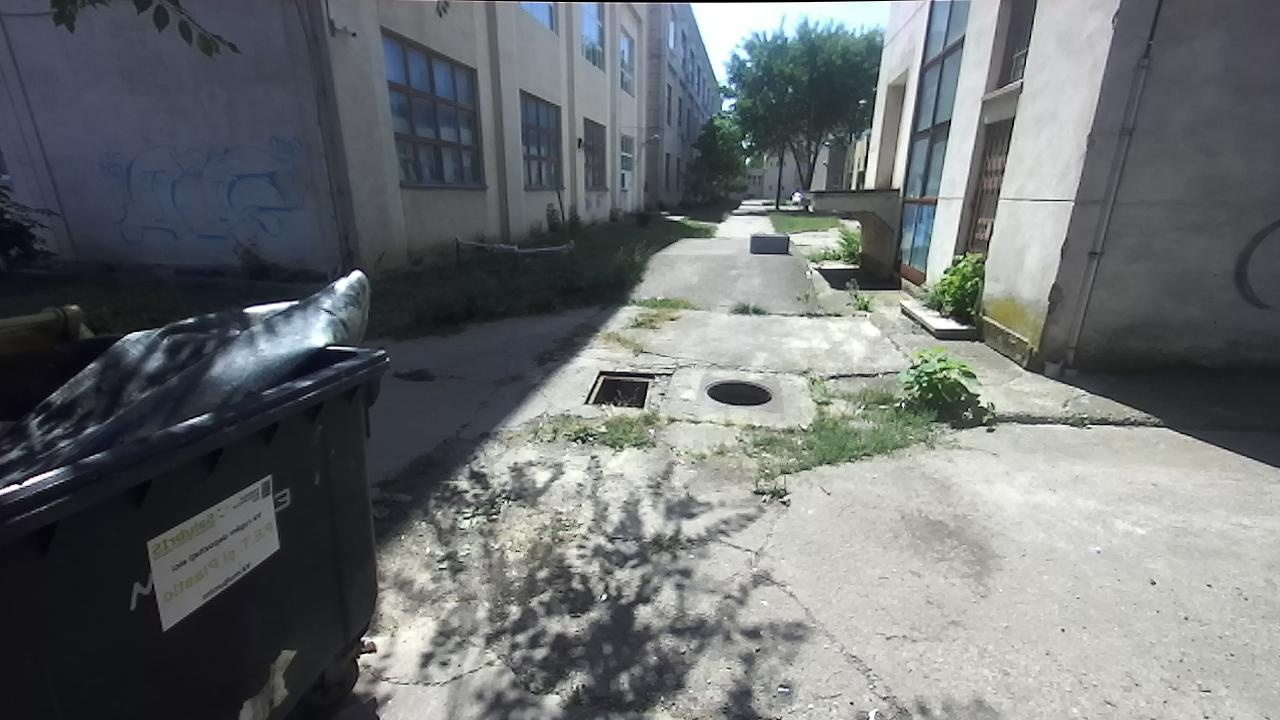drain: (579, 367, 668, 413), (701, 375, 776, 407)
